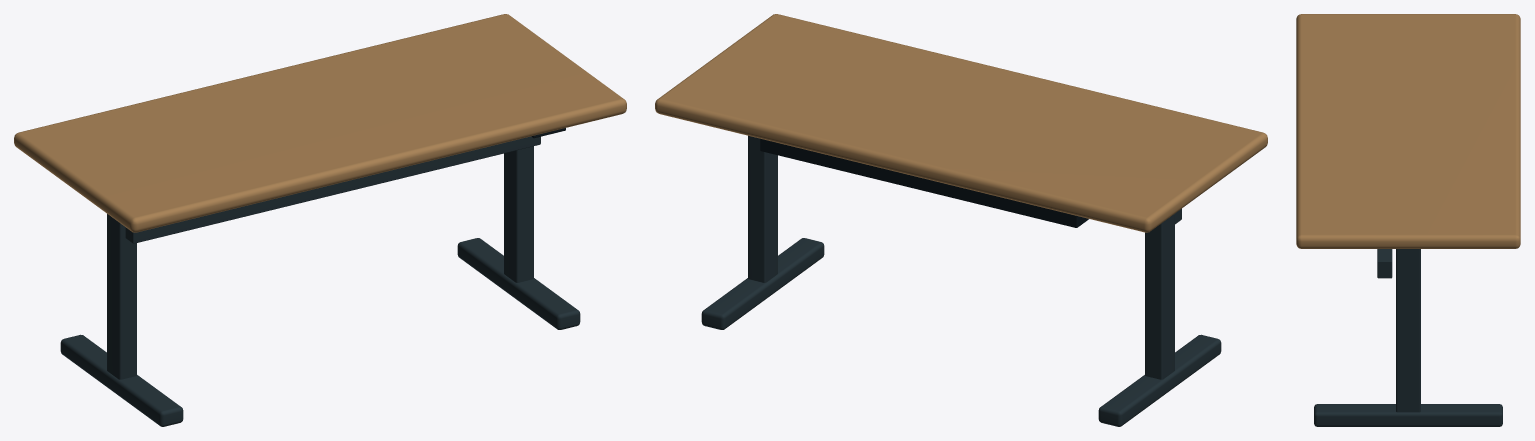
Rendered from work_desk.glb.
The picture shows the model from 3 angles, left to right: view 1: azimuth 30°, elevation 25°; view 2: azimuth 150°, elevation 25°; view 3: azimuth 270°, elevation 25°; orthographic projection. The views are drawn at different scales.
Visible parts, largest first — view 1: work_desk_Mesh; view 2: work_desk_Mesh; view 3: work_desk_Mesh.
Part boxes in pixels (x1,y1,x2,y2): work_desk_Mesh: (14, 14, 626, 426); work_desk_Mesh: (655, 14, 1267, 426); work_desk_Mesh: (1296, 14, 1520, 426).
Size of the model in its own units: 1.8 by 0.7785 by 0.76.
